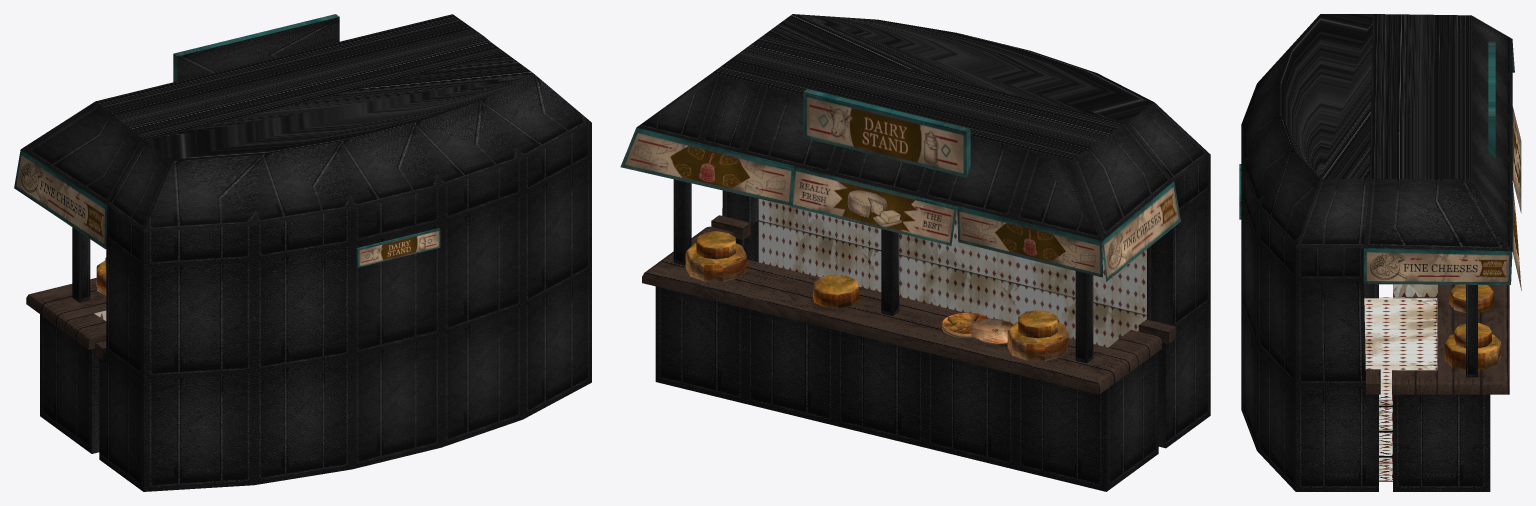
Rendered from chese_shop.fbx.
The picture shows the model from 3 angles, left to right: view 1: azimuth 30°, elevation 25°; view 2: azimuth 150°, elevation 25°; view 3: azimuth 270°, elevation 25°; orthographic projection. The views are drawn at different scales.
Parts seen in each view (by area): view 1: kiosk.001; view 2: kiosk.001; view 3: kiosk.001.
Part boxes in pixels (bbox=[...]): kiosk.001: bbox=[14, 14, 591, 491]; kiosk.001: bbox=[620, 14, 1210, 491]; kiosk.001: bbox=[1239, 14, 1521, 491].
Size of the model in its own units: 293 by 159 by 191.
